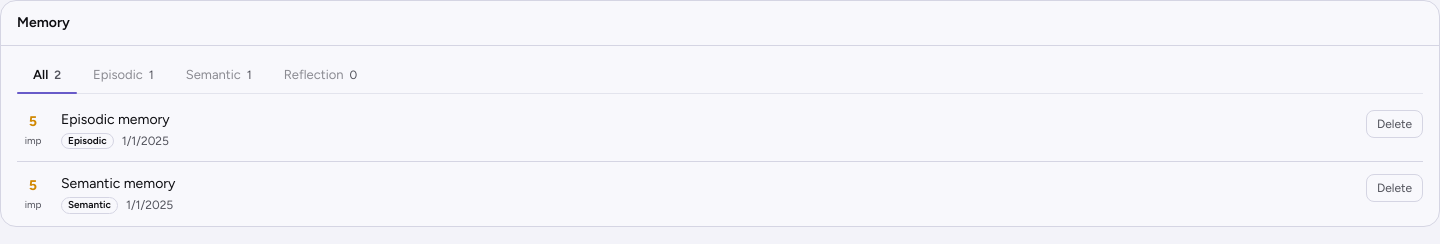
Scenario: AgentMemoryBrowser › filters memories by type when tab is clicked
Click the tab "Episodic1" at (123, 75), box left=77, top=58, right=170, bottom=93
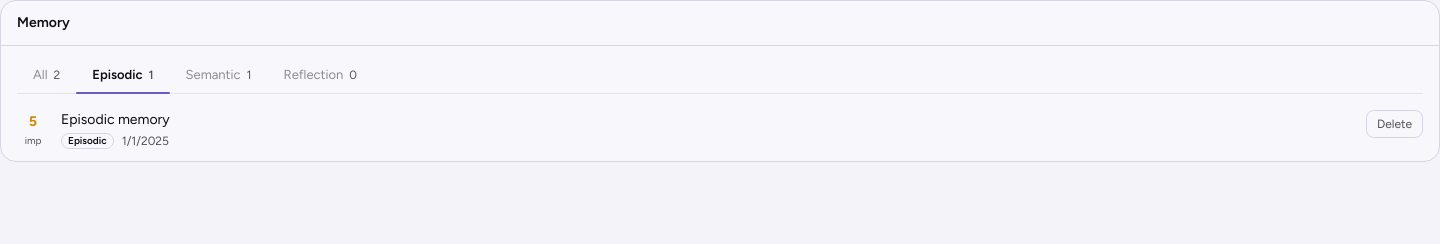
Expected: the text "Episodic memory" is shown, left=61, top=111, right=170, bottom=128
Now the text "Semantic memory" is gone
